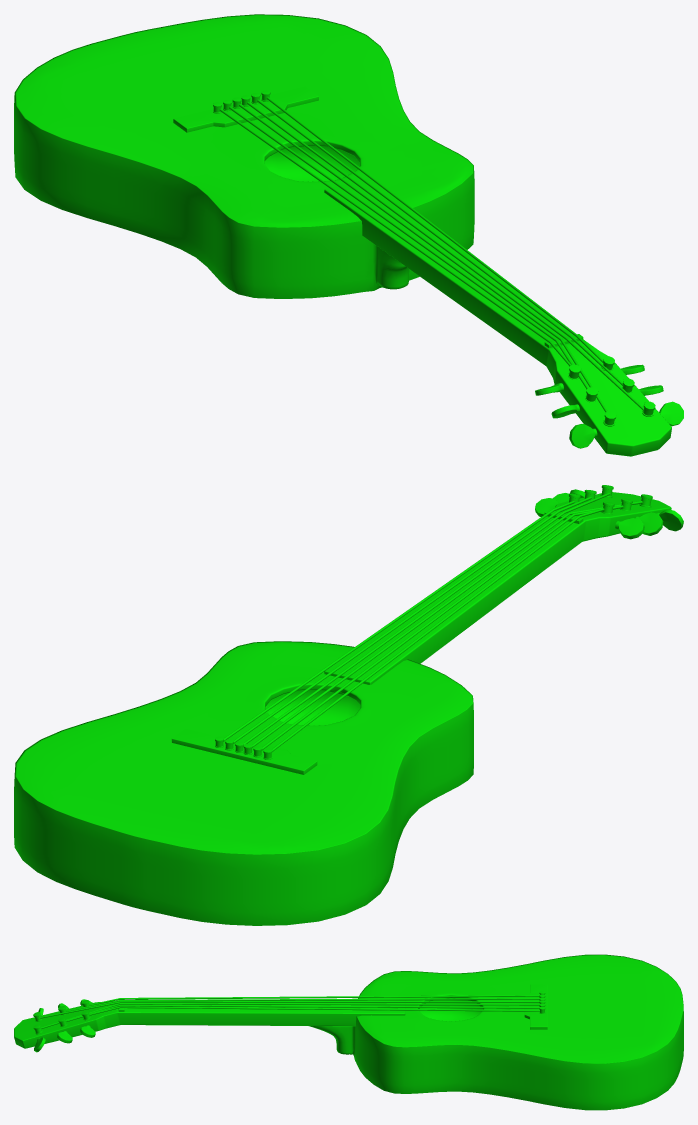
Rendered from Story_1_Bedroom_Guitar.fbx.
The picture shows the model from 3 angles, top to bottom: view 1: azimuth 30°, elevation 25°; view 2: azimuth 150°, elevation 25°; view 3: azimuth 270°, elevation 25°; orthographic projection. The views are drawn at different scales.
Visible parts, largest first — view 1: Guitar_body, Guitar_neck, Guitar_bridge, Guitar_String_3, Guitar_String_4, Guitar_String_2, Guitar_String_5, Guitar_String_6, Guitar_String_1; view 2: Guitar_body, Guitar_neck, Guitar_bridge, Guitar_String_3, Guitar_String_2, Guitar_String_4, Guitar_String_1, Guitar_String_5, Guitar_String_6; view 3: Guitar_body, Guitar_neck, Guitar_String_3, Guitar_String_5, Guitar_String_2, Guitar_String_1, Guitar_String_6, Guitar_String_4, Guitar_bridge.
Part boxes in pixels (x1,y1,x2,y2): Guitar_body: (14, 14, 474, 298); Guitar_neck: (324, 178, 671, 456); Guitar_bridge: (173, 86, 318, 132); Guitar_String_3: (247, 102, 643, 410); Guitar_String_4: (239, 104, 607, 412); Guitar_String_2: (257, 99, 623, 385); Guitar_String_5: (229, 106, 588, 389); Guitar_String_6: (219, 108, 571, 366); Guitar_String_1: (266, 97, 603, 363); Guitar_body: (14, 641, 473, 925); Guitar_neck: (324, 492, 671, 696); Guitar_bridge: (171, 729, 317, 774); Guitar_String_3: (244, 492, 610, 744); Guitar_String_2: (233, 496, 591, 743); Guitar_String_4: (252, 501, 642, 747); Guitar_String_1: (223, 501, 574, 741); Guitar_String_5: (262, 505, 623, 750); Guitar_String_6: (272, 508, 604, 751); Guitar_body: (309, 954, 683, 1110); Guitar_neck: (14, 1000, 405, 1048); Guitar_String_3: (41, 1003, 539, 1028); Guitar_String_5: (65, 998, 539, 1011); Guitar_String_2: (66, 1004, 539, 1021); Guitar_String_1: (89, 1006, 539, 1015); Guitar_String_6: (88, 995, 539, 1006); Guitar_String_4: (40, 1001, 539, 1018); Guitar_bridge: (524, 984, 547, 1029).
Bounding box in the file's own units: 17.59 × 4.21 × 45.42.
